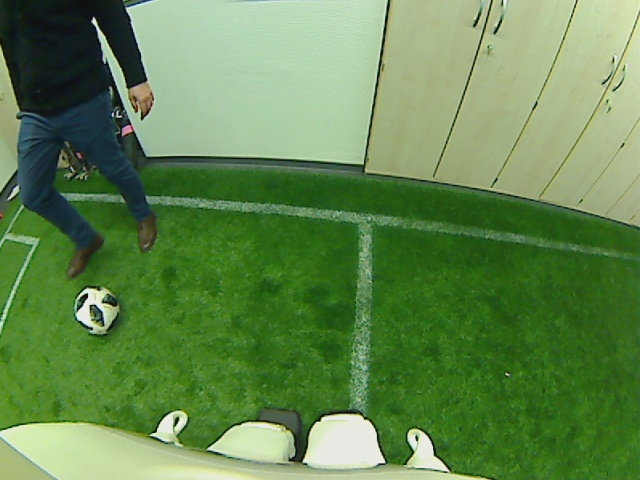ball: (70, 283, 121, 336)
